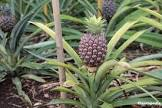Pineapple: (79, 16, 108, 65)
